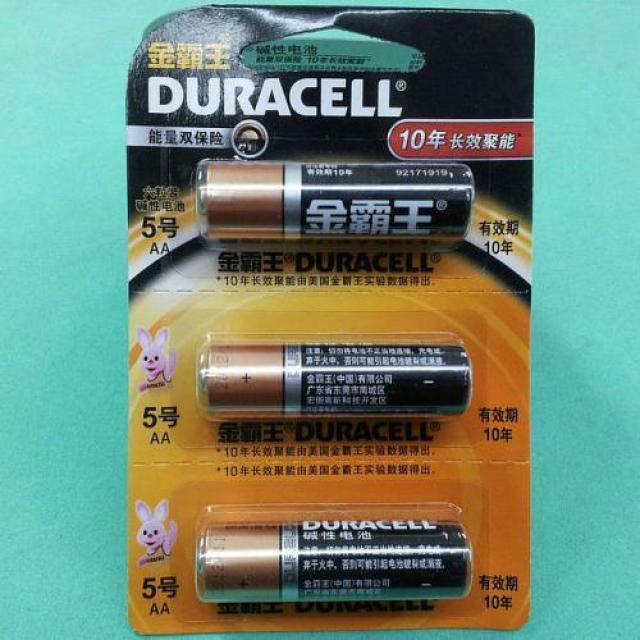Hazard: (205, 340, 476, 423), (200, 160, 474, 242), (198, 520, 468, 600)
